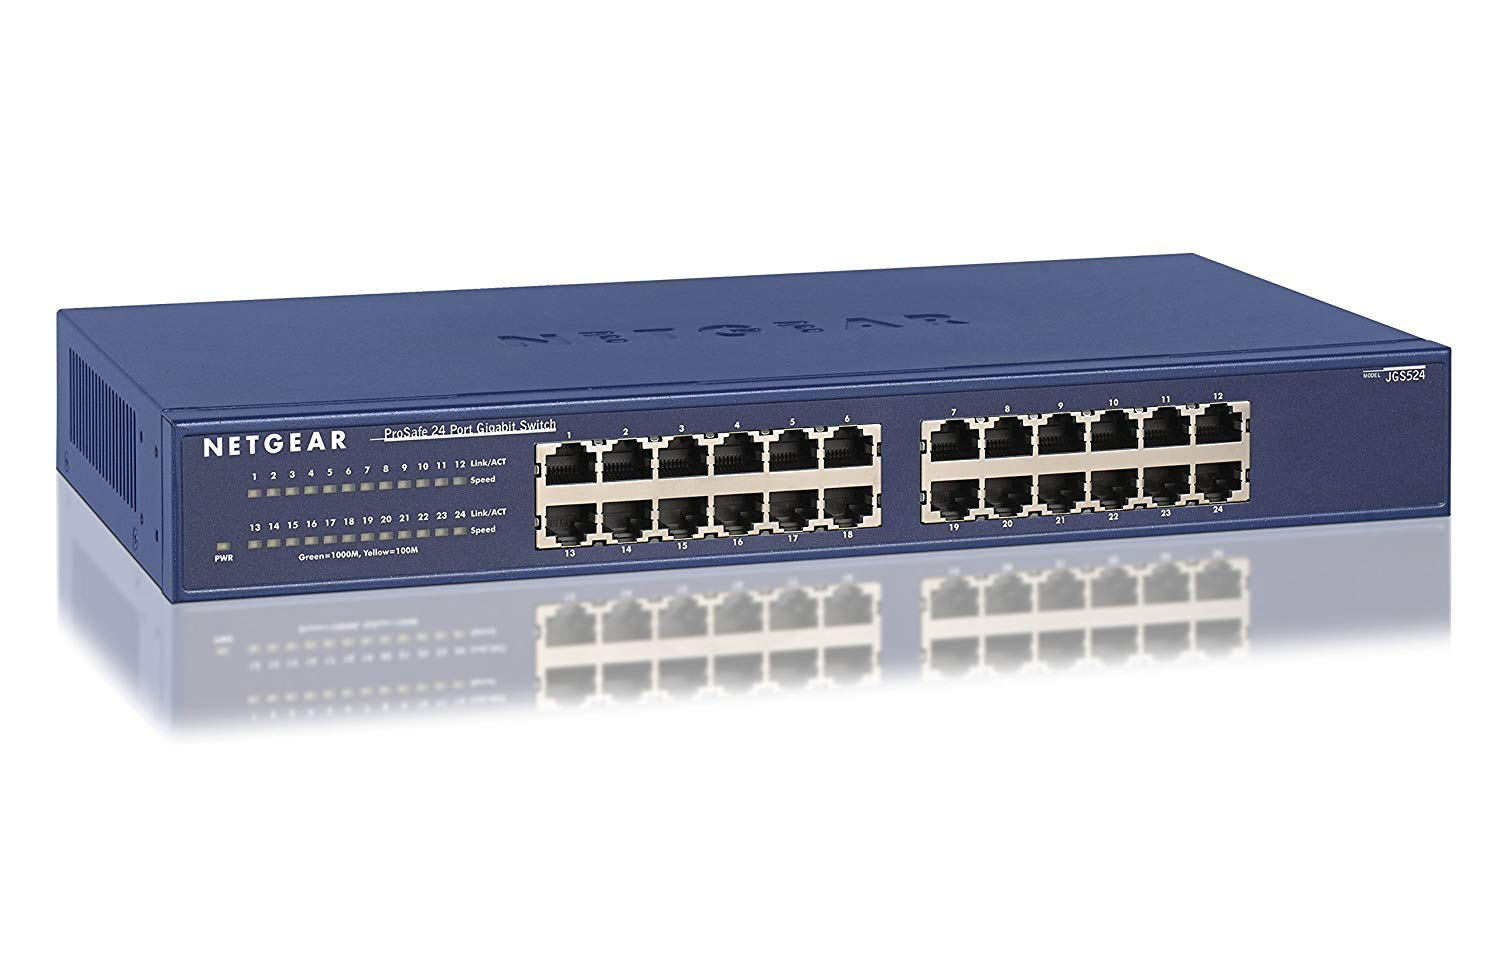Switch: (47, 239, 1470, 662)
